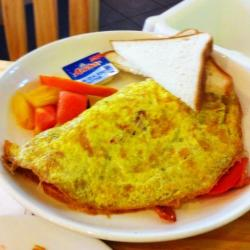bread: (111, 36, 217, 100)
omelette: (28, 77, 239, 205)
